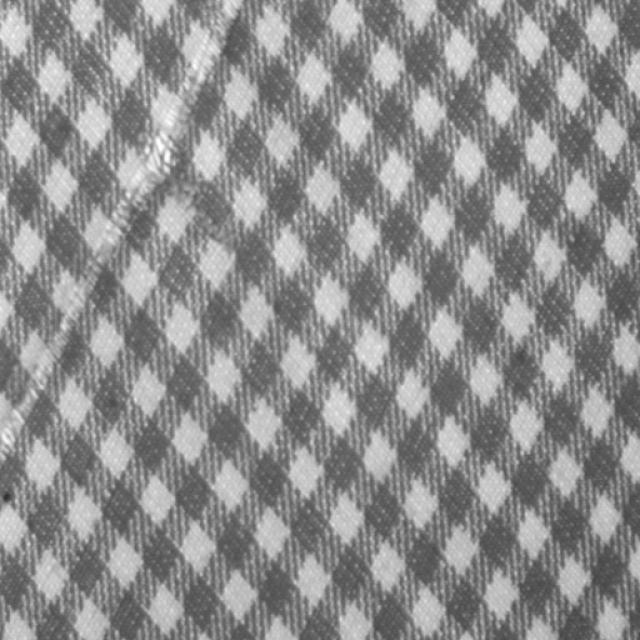Thread-Defect: (2, 0, 237, 469)
